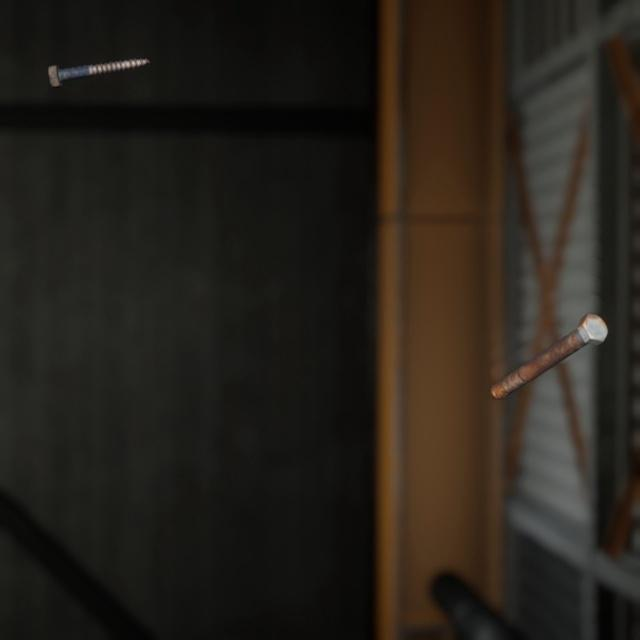bolt: (485, 290, 612, 386), (43, 43, 154, 82)
